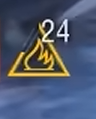1fire: (5, 47, 71, 79)
